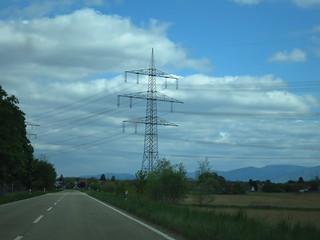power_tower: (118, 45, 187, 190)
